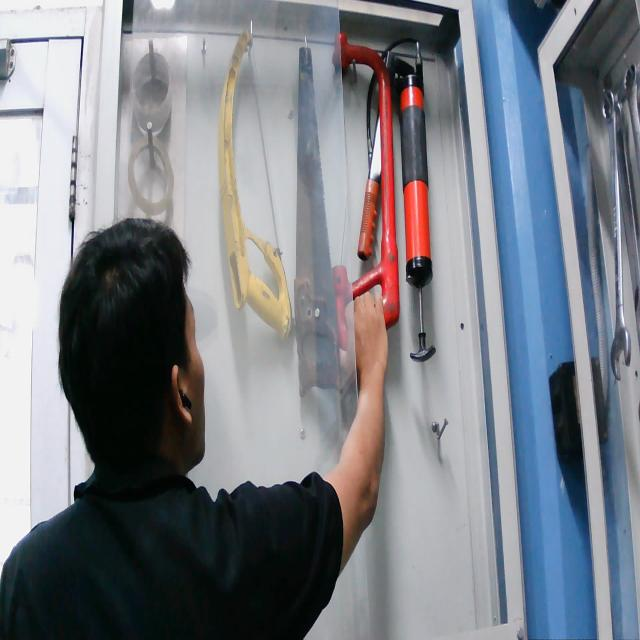gergaji_besi: (329, 26, 403, 387)
